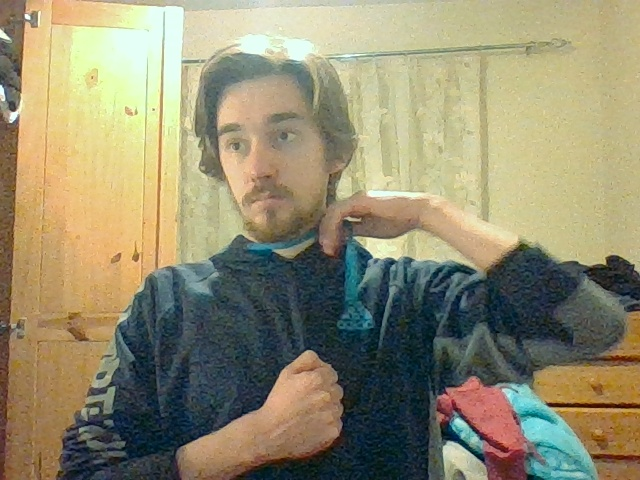my: (270, 349, 342, 456)
